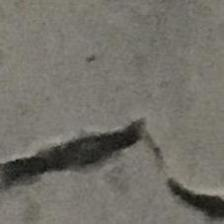Crack: (2, 108, 224, 219)
